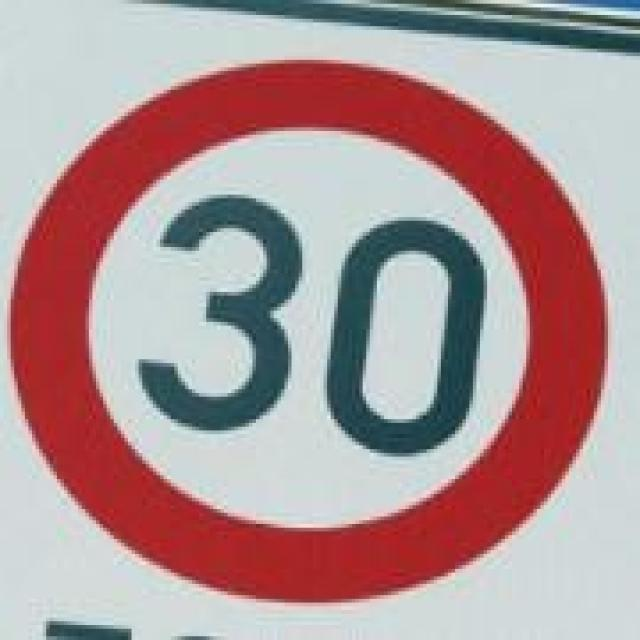speed_limit_30: (7, 52, 601, 595)
